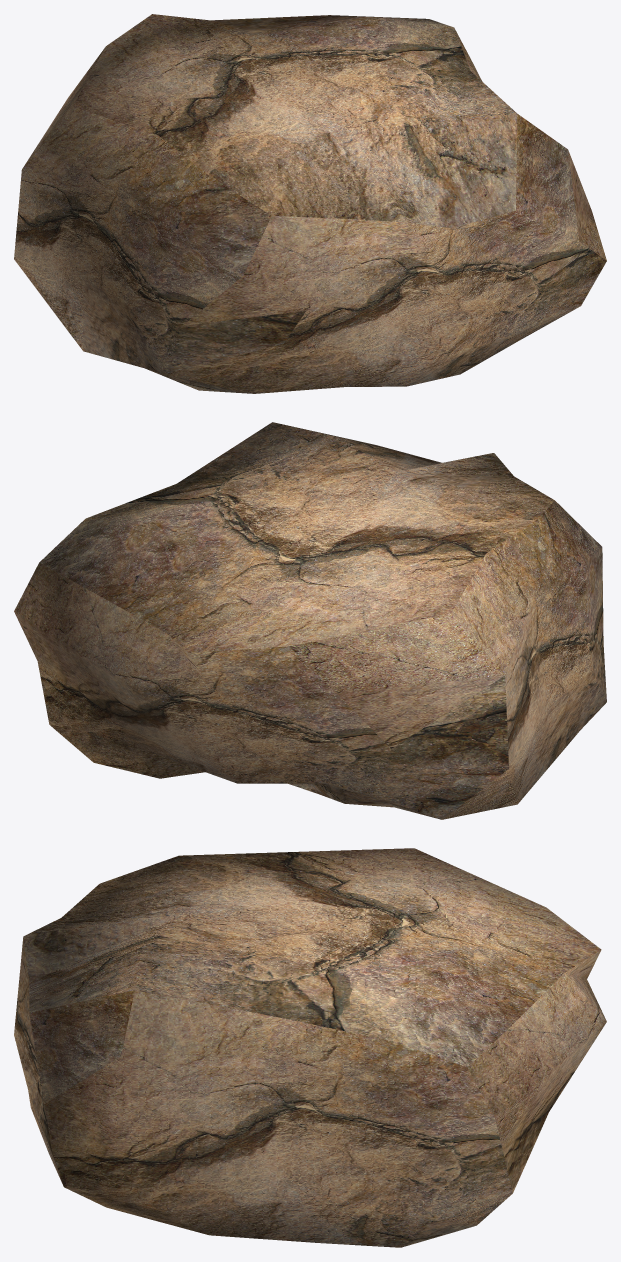
File: Rock 1.FBX
3 views of the same model, one above another, from view 1: azimuth 30°, elevation 25°; view 2: azimuth 150°, elevation 25°; view 3: azimuth 270°, elevation 25° (orthographic). The views are drawn at different scales.
Parts seen in each view (by area): view 1: rock 1; view 2: rock 1; view 3: rock 1.
Boxes of the visible parts, x1,y1,x2,y2 form: rock 1: [14, 14, 606, 393]; rock 1: [14, 422, 606, 819]; rock 1: [14, 848, 606, 1247].
Size of the model in its own units: 78.52 by 41.53 by 84.71.
1 material, 1 textured.
